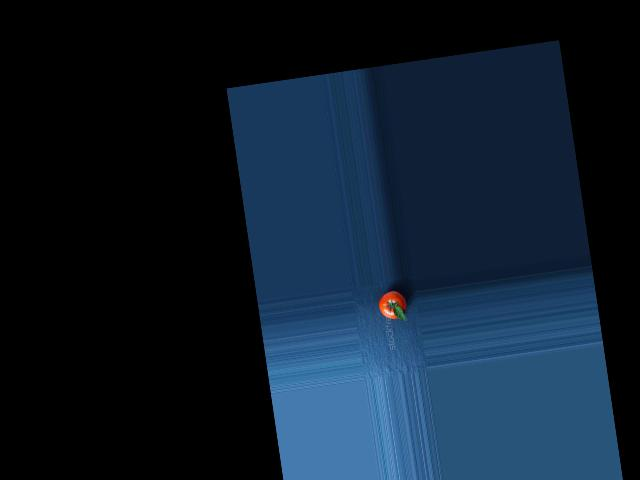tomato: (377, 289, 408, 320)
